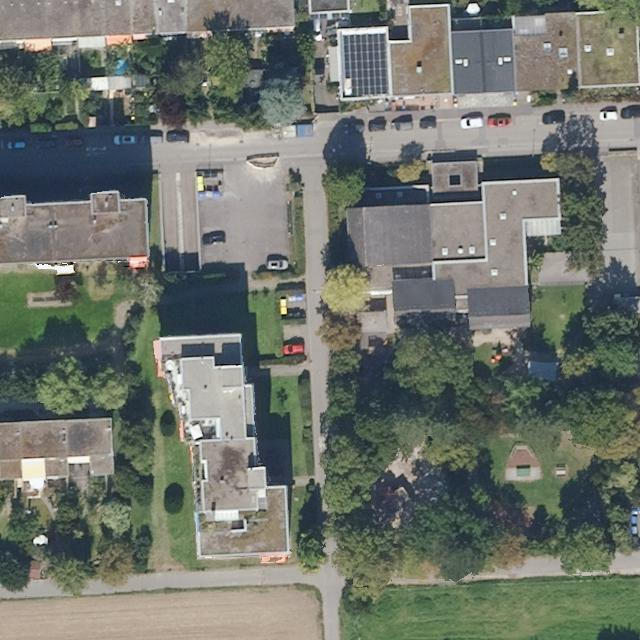PV: (341, 31, 392, 99)
